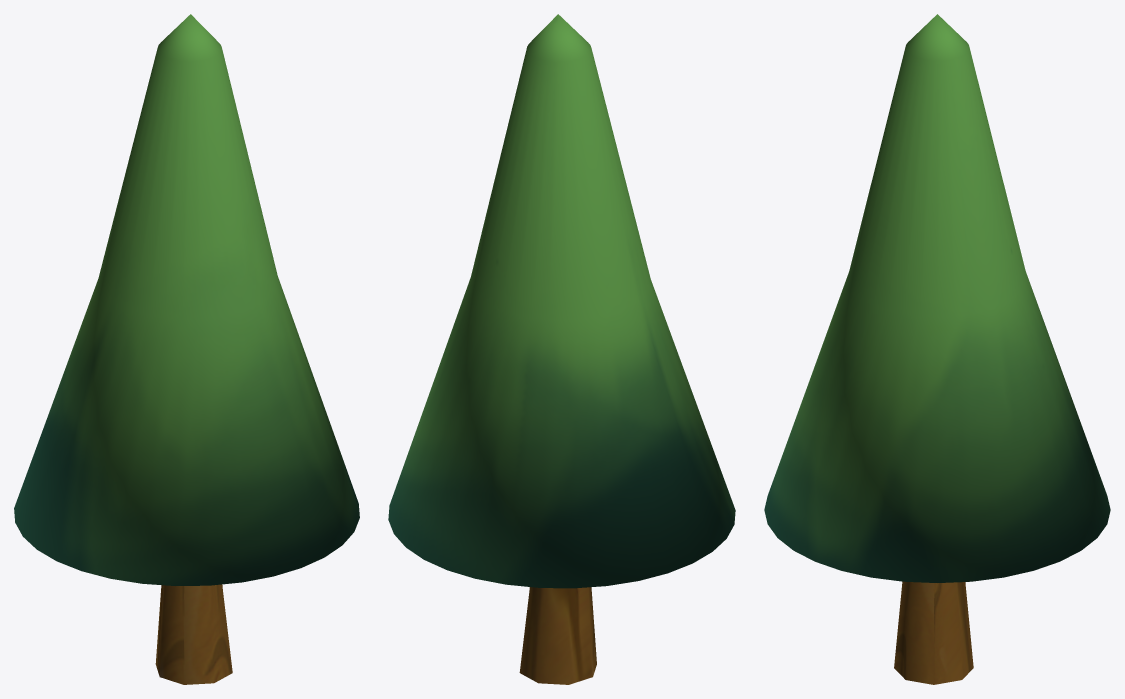
File: tree6.fbx
3 renders of one model, left to right at view 1: azimuth 30°, elevation 25°; view 2: azimuth 150°, elevation 25°; view 3: azimuth 270°, elevation 25°, orthographic.
Visible parts, largest first — view 1: tree.006; view 2: tree.006; view 3: tree.006.
Boxes of the visible parts, left/top/right/bottom form: tree.006: left=14, top=14, right=359, bottom=684; tree.006: left=388, top=14, right=735, bottom=684; tree.006: left=764, top=14, right=1110, bottom=684.
Size of the model in its own units: 940 by 1957 by 940.
